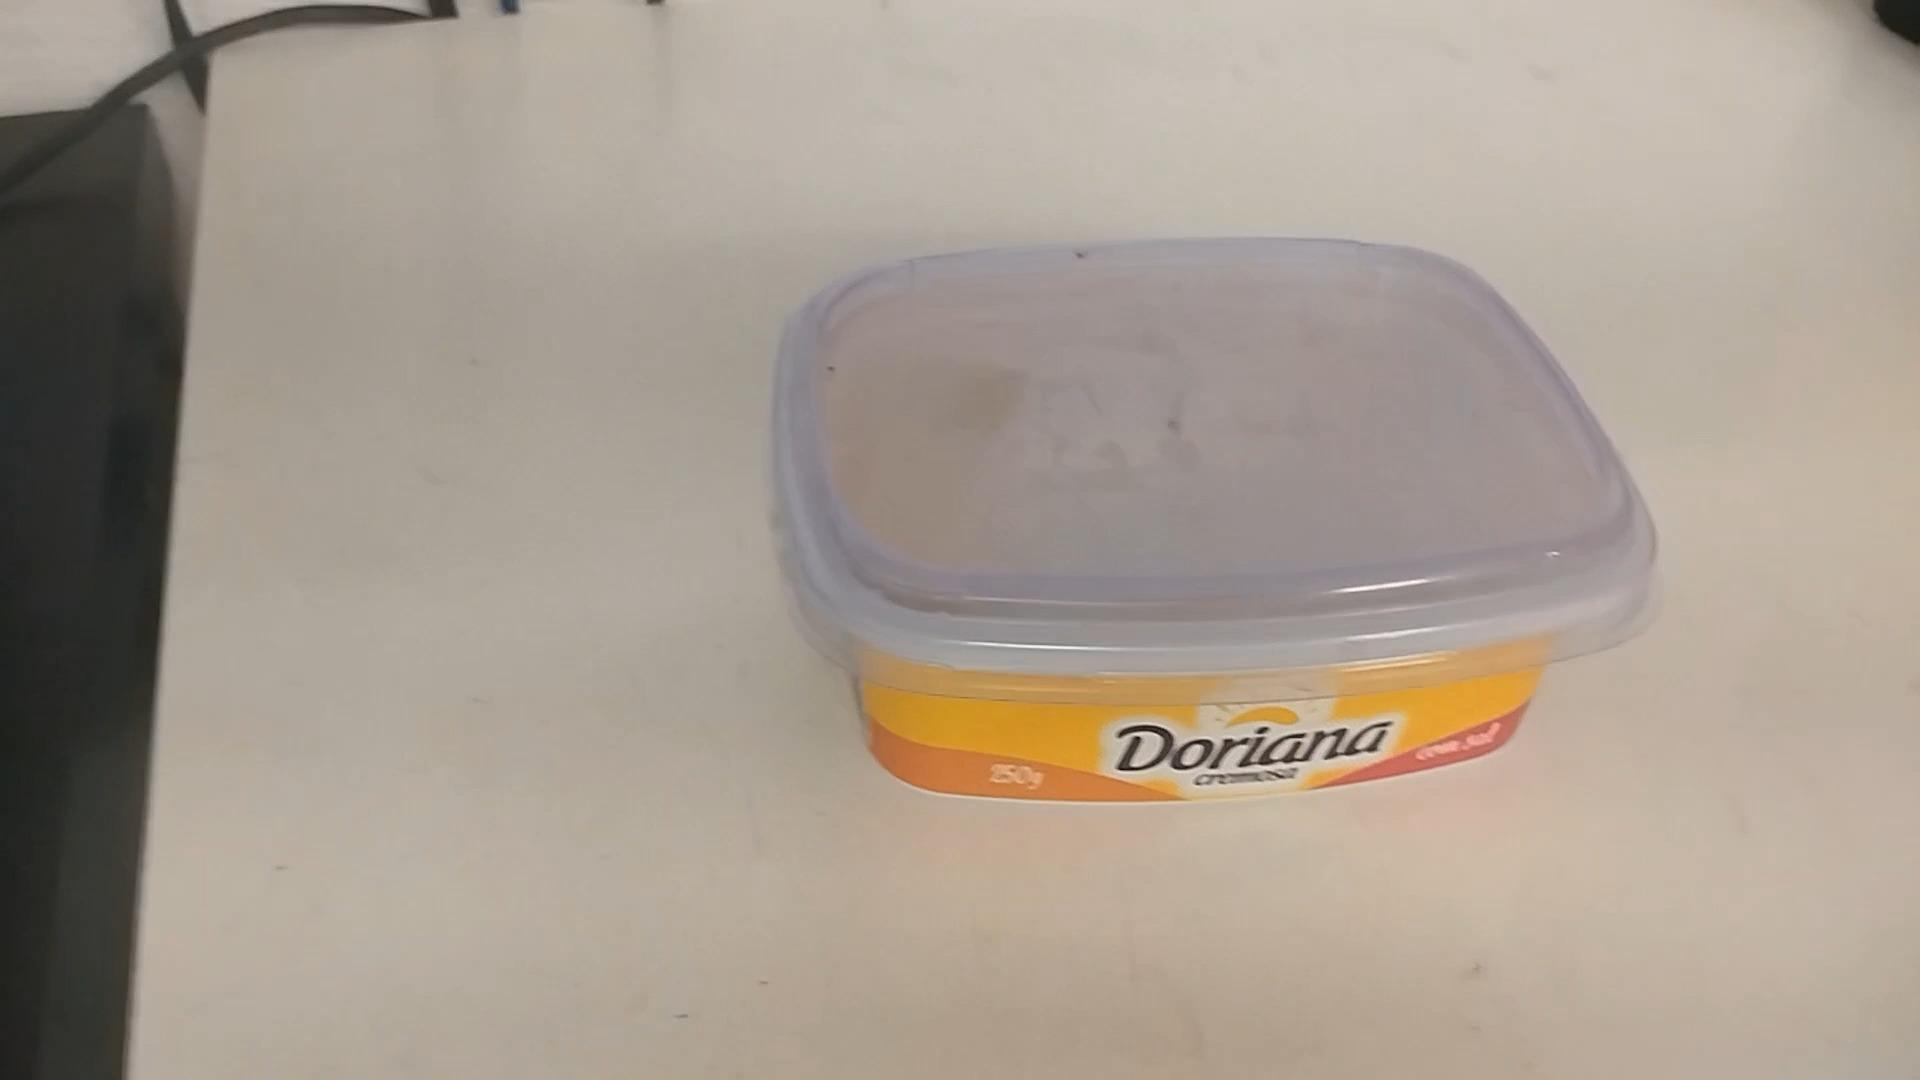butter: (774, 245, 1664, 803)
